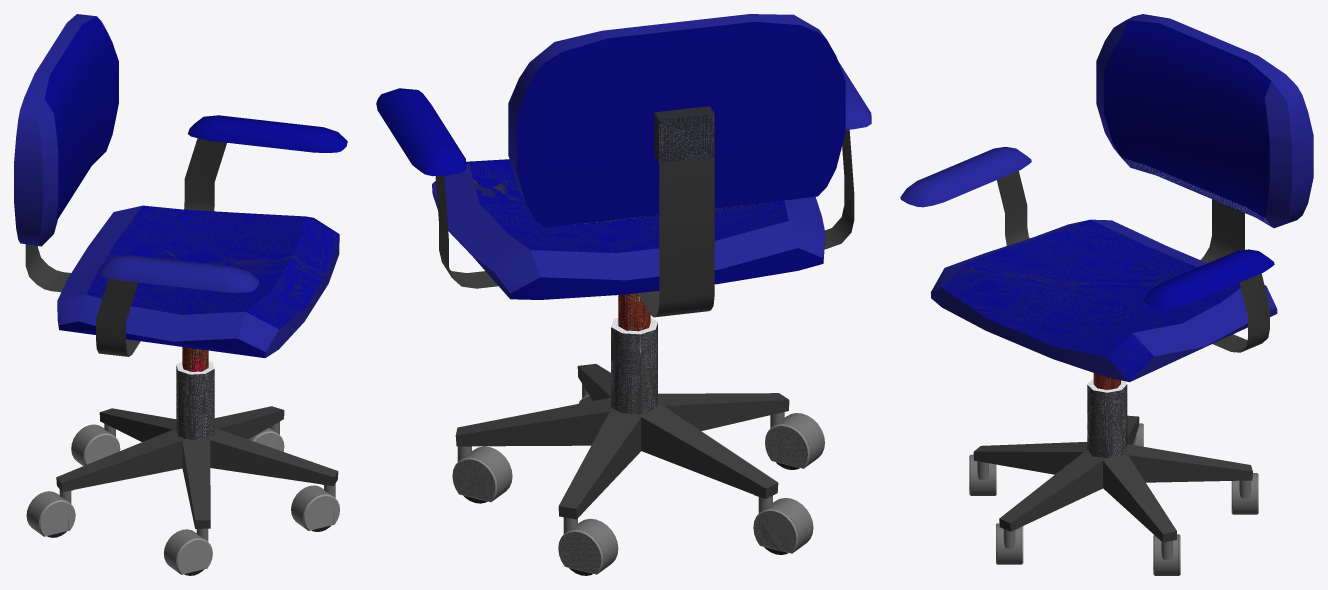
The model's file is chair1.dae.
3 views of the same model, side by side, from view 1: azimuth 30°, elevation 25°; view 2: azimuth 150°, elevation 25°; view 3: azimuth 270°, elevation 25° (orthographic). The views are drawn at different scales.
Visible parts, largest first — view 1: SketchUp (×10), group_0 (×3), group_3 (×3), group_4 (×3), group_1 (×3), group_2; view 2: SketchUp (×12), group_0 (×3), group_2 (×3), group_1 (×3), group_4 (×3), group_3; view 3: SketchUp (×9), group_3 (×2), group_1 (×2), group_2 (×2), group_4 (×2).
Part boxes in pixels (box(x1,y1,x2,y2)): SketchUp (×10): box(14, 14, 347, 439); group_0 (×3): box(26, 428, 184, 536); group_3 (×3): box(207, 428, 339, 530); group_4 (×3): box(164, 438, 212, 574); group_1 (×3): box(71, 408, 185, 465); group_2: box(214, 406, 284, 439); SketchUp (×12): box(376, 14, 871, 414); group_0 (×3): box(638, 404, 813, 553); group_2 (×3): box(452, 397, 613, 501); group_1 (×3): box(558, 409, 642, 573); group_4 (×3): box(657, 393, 824, 468); group_3: box(577, 364, 610, 400); SketchUp (×9): box(900, 14, 1313, 458); group_3 (×2): box(997, 450, 1105, 564); group_1 (×2): box(1123, 444, 1256, 514); group_2 (×2): box(1101, 453, 1178, 575); group_4 (×2): box(971, 442, 1087, 495).
Size of the model in its own units: 26.45 by 26.47 by 31.49.
14 materials, 1 textured.
